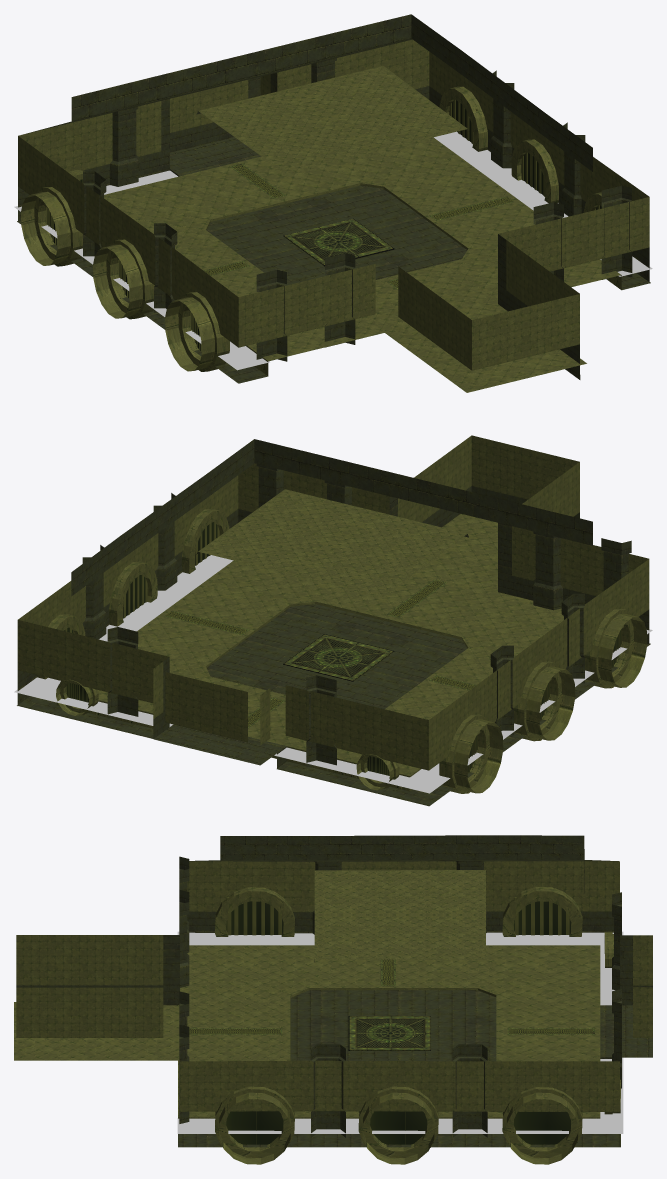
Rendered from Sewer_Boss.fbx.
3 renders of one model, top to bottom at view 1: azimuth 30°, elevation 25°; view 2: azimuth 150°, elevation 25°; view 3: azimuth 270°, elevation 25°, orthographic.
Parts seen in each view (by area): view 1: Sewer_Boss..Wall, Sewer_Boss.floor, Sewer_Boss.Water; view 2: Sewer_Boss..Wall, Sewer_Boss.floor, Sewer_Boss.Water; view 3: Sewer_Boss..Wall, Sewer_Boss.floor, Sewer_Boss.Water.
Part boxes in pixels (<box>): Sewer_Boss..Wall: <box>18,14,649,379</box>; Sewer_Boss.floor: <box>17,137,650,392</box>; Sewer_Boss.Water: <box>14,131,652,370</box>; Sewer_Boss..Wall: <box>17,435,649,793</box>; Sewer_Boss.floor: <box>17,514,650,806</box>; Sewer_Boss.Water: <box>14,555,652,793</box>; Sewer_Boss..Wall: <box>16,835,652,1164</box>; Sewer_Boss.floor: <box>14,945,620,1147</box>; Sewer_Boss.Water: <box>177,931,623,1133</box>.
Size of the model in its own units: 5130 by 1589 by 6367.
